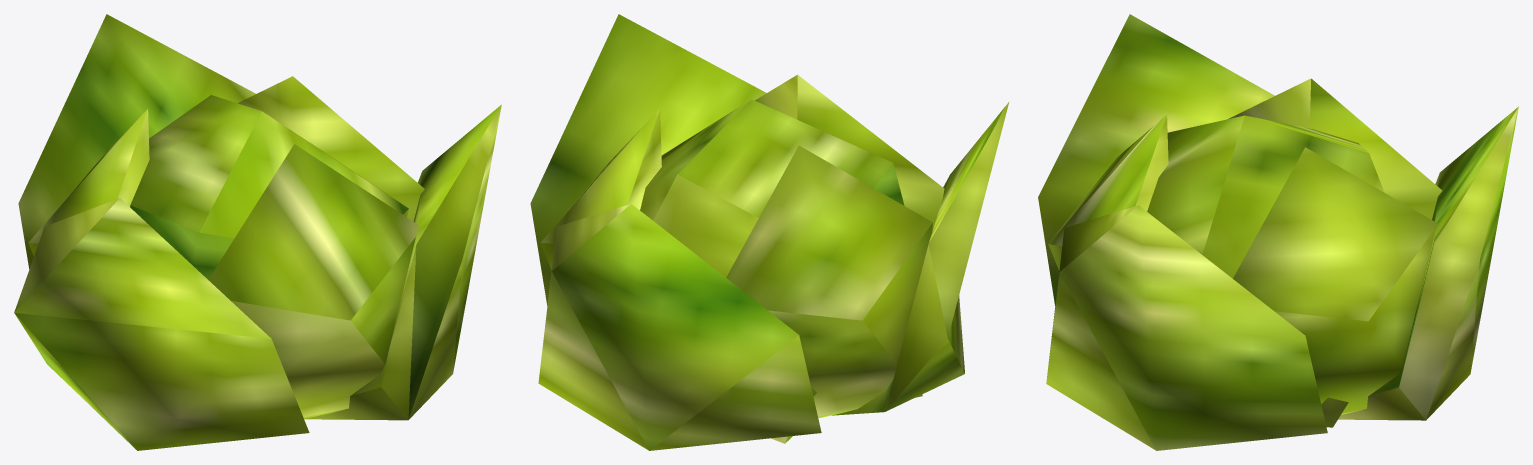
Rendered from lettuce.glb.
3 views of the same model, side by side, from view 1: azimuth 30°, elevation 25°; view 2: azimuth 150°, elevation 25°; view 3: azimuth 270°, elevation 25° (orthographic).
Parts seen in each view (by area): view 1: food_ingredient_lettuce; view 2: food_ingredient_lettuce; view 3: food_ingredient_lettuce.
Part boxes in pixels (x1=…): food_ingredient_lettuce: x1=14, y1=14, x2=501, y2=450; food_ingredient_lettuce: x1=530, y1=14, x2=1009, y2=450; food_ingredient_lettuce: x1=1038, y1=14, x2=1518, y2=450.
Size of the model in its own units: 1.09 by 0.8377 by 1.11.
1 material, 1 textured.
